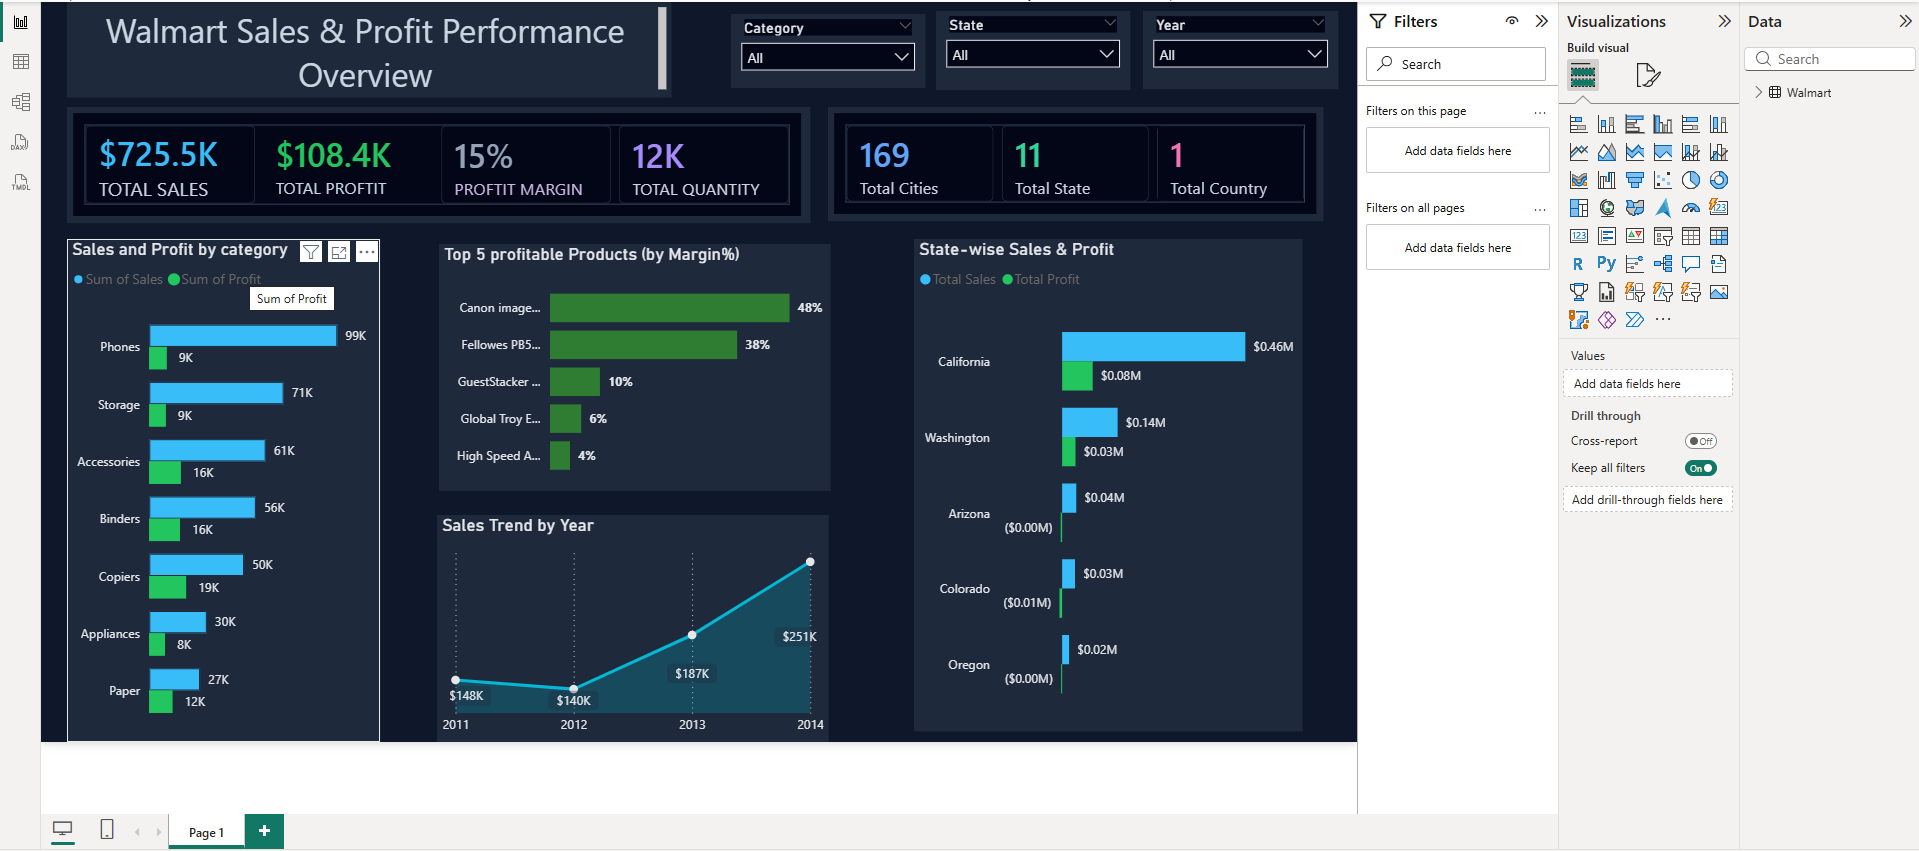

Layout of this report page (visuals, bound fields, positions):
{"tool":"powerbi","page":{"name":"Page 1","canvas":[1280,720],"ordinal":0},"visuals":[{"type":"cardVisual","fields":{"Data":["Walmart.Total Sales","Walmart.Total Profit","Walmart.Profit Margin%","Walmart.Total Quantity"]},"box":[25.5,101.9,722.8,112.6],"z":0},{"type":"cardVisual","fields":{"Data":["Walmart.Total Cities","Walmart.Total State","Walmart.Total Country"]},"box":[765.8,101.9,481.8,110.7],"z":1000},{"type":"clusteredBarChart","title":"Sales and Profit by category","fields":{"Category":["Walmart.Category"],"Y":["Sum(Walmart.Sales)","Sum(Walmart.Profit)"]},"box":[25.5,230.1,304.6,489.7],"z":2000},{"type":"stackedAreaChart","title":"Sales Trend by Year","fields":{"Category":["Walmart.Order Date.Variation.Date Hierarchy.Year"],"Y":["Walmart.Total Sales"]},"box":[385,498.8,381,221.7],"z":3000},{"type":"barChart","title":"Top 5 profitable Products (by Margin%)","fields":{"Category":["Walmart.Product Name"],"Y":["Walmart.Profit Margin%"]},"box":[386.8,235,381,239.9],"z":4000},{"type":"textbox","box":[25.3,0,588.4,93.4],"z":5000},{"type":"slicer","fields":{"Values":["Walmart.Category"]},"box":[671.1,11.7,188.7,72],"z":6000},{"type":"slicer","fields":{"Values":["Walmart.Order Date.Variation.Date Hierarchy.Year"]},"box":[1071.9,8.8,189.7,75.9],"z":7000},{"type":"slicer","fields":{"Values":["Walmart.State"]},"box":[870.5,8.8,188.7,76.8],"z":8000},{"type":"clusteredBarChart","title":"State-wise Sales & Profit","fields":{"Category":["Walmart.State"],"Y":["Walmart.Total Sales","Walmart.Total Profit"]},"box":[849.1,230.1,378,478.9],"z":9000}]}

Visuals, with their boxes on the page's 1280x720 design canvas (x1, y1, x2, y2). These are canvas units, not pixel positions in the 1919x851 screenshot, which may show the page scaled, cropped or inside an application window:
cardVisual - Walmart.Total Sales x Walmart.Total Profit: BBox(26, 102, 748, 214)
cardVisual - Walmart.Total Cities x Walmart.Total State: BBox(766, 102, 1248, 213)
"Sales and Profit by category" clusteredBarChart: BBox(26, 230, 330, 720)
"Sales Trend by Year" stackedAreaChart: BBox(385, 499, 766, 720)
"Top 5 profitable Products (by Margin%)" barChart: BBox(387, 235, 768, 475)
textbox: BBox(25, 0, 614, 93)
slicer - Walmart.Category: BBox(671, 12, 860, 84)
slicer - Walmart.Order Date.Variation.Date Hierarchy.Year: BBox(1072, 9, 1262, 85)
slicer - Walmart.State: BBox(870, 9, 1059, 86)
"State-wise Sales & Profit" clusteredBarChart: BBox(849, 230, 1227, 709)
